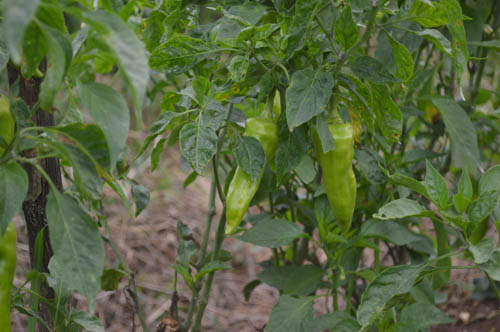ChiliPepper: (220, 119, 276, 237), (311, 120, 360, 230)
